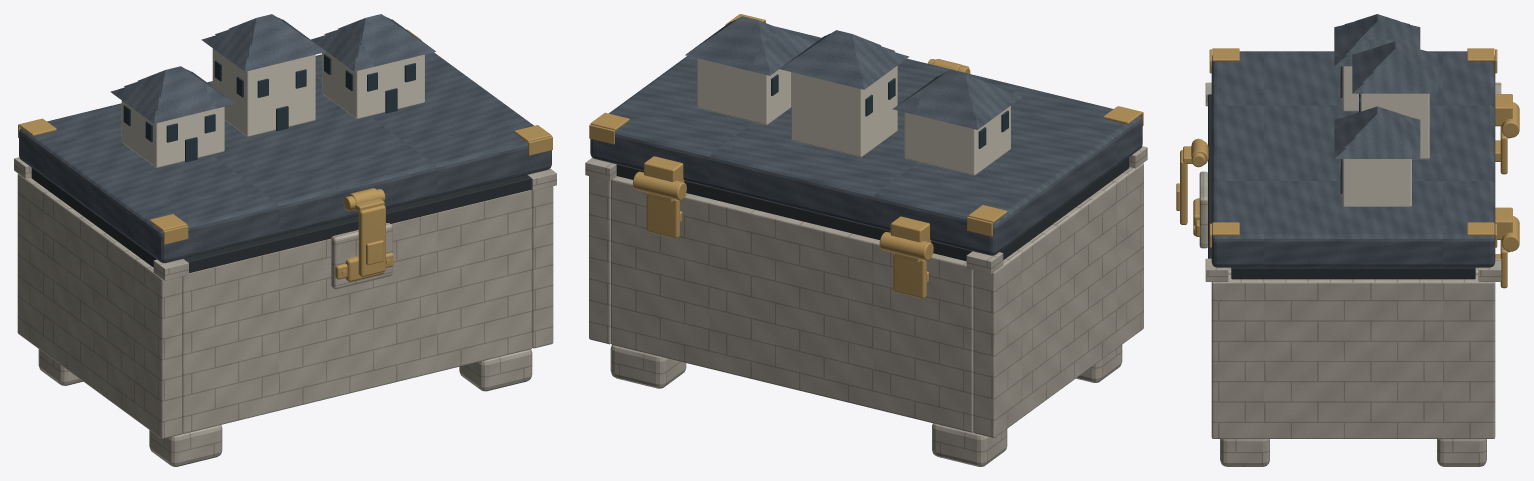
The model's file is albania.glb.
3 renders of one model, left to right at view 1: azimuth 30°, elevation 25°; view 2: azimuth 150°, elevation 25°; view 3: azimuth 270°, elevation 25°, orthographic. The views are drawn at different scales.
Parts seen in each view (by area): view 1: Stone / front, Lid / polished slab, Stone / side, House 1 / walls, Mineral seam / long, House 2 / walls, House 0 / walls, Stone / side.001, Stone / foot, Stone / foot.002, House 1 / roof 0, House 2 / roof 0 (+12 smaller); view 2: Stone / rear, Lid / polished slab, Stone / side, House 1 / walls, House 0 / walls, House 2 / walls, Stone / side.001, Mineral seam / long.001, Stone / foot.001, Stone / foot.003, House 0 / roof 0, House 1 / roof 0 (+16 smaller); view 3: Lid / polished slab, Stone / side.001, House 2 / walls, Mineral seam / side.001, House 1 / roof 0, House 2 / roof 0, House 1 / walls, Stone / foot.003, Stone / foot.002, House 1 / roof 1, House 2 / roof 1, House 0 / roof 1 (+18 smaller).
Part boxes in pixels (bbox=[...]): Stone / front: bbox=[182, 190, 532, 433]; Lid / polished slab: bbox=[19, 52, 551, 262]; Stone / side: bbox=[17, 173, 182, 438]; House 1 / walls: bbox=[212, 48, 315, 136]; Mineral seam / long: bbox=[183, 175, 531, 272]; House 2 / walls: bbox=[322, 52, 424, 118]; House 0 / walls: bbox=[121, 100, 224, 167]; Stone / side.001: bbox=[532, 186, 553, 348]; Stone / foot: bbox=[149, 425, 222, 466]; Stone / foot.002: bbox=[459, 349, 532, 391]; House 1 / roof 0: bbox=[201, 19, 326, 71]; House 2 / roof 0: bbox=[311, 19, 435, 71]; Stone / rear: bbox=[611, 176, 973, 432]; Lid / polished slab: bbox=[590, 26, 1142, 255]; Stone / side: bbox=[973, 163, 1143, 437]; House 1 / walls: bbox=[791, 66, 897, 157]; House 0 / walls: bbox=[904, 106, 1010, 175]; House 2 / walls: bbox=[697, 58, 791, 124]; Stone / side.001: bbox=[589, 176, 610, 344]; Mineral seam / long.001: bbox=[616, 164, 972, 261]; Stone / foot.001: bbox=[932, 423, 1007, 466]; Stone / foot.003: bbox=[610, 345, 686, 388]; House 0 / roof 0: bbox=[892, 75, 1022, 129]; House 1 / roof 0: bbox=[779, 35, 909, 89]; Lid / polished slab: bbox=[1211, 51, 1495, 267]; Stone / side.001: bbox=[1211, 274, 1495, 438]; House 2 / walls: bbox=[1342, 159, 1411, 206]; Mineral seam / side.001: bbox=[1231, 267, 1475, 279]; House 1 / roof 0: bbox=[1352, 52, 1437, 93]; House 2 / roof 0: bbox=[1334, 117, 1420, 158]; House 1 / walls: bbox=[1360, 93, 1429, 159]; Stone / foot.003: bbox=[1437, 439, 1486, 466]; Stone / foot.002: bbox=[1220, 439, 1269, 466]; House 1 / roof 1: bbox=[1362, 49, 1427, 82]; House 2 / roof 1: bbox=[1344, 114, 1409, 147]; House 0 / roof 1: bbox=[1344, 21, 1409, 55].
Bounding box in the file's own units: 3.72 × 3.13 × 2.88.
6 materials, 2 textured.
